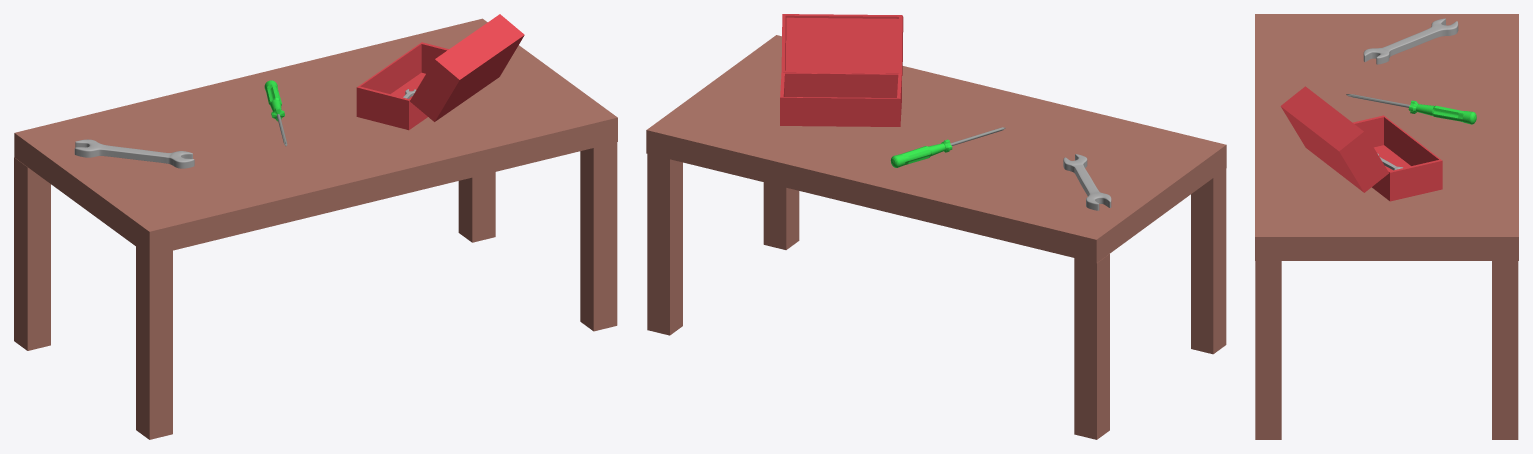
The model's file is table.fbx.
3 views of the same model, side by side, from view 1: azimuth 30°, elevation 25°; view 2: azimuth 150°, elevation 25°; view 3: azimuth 270°, elevation 25° (orthographic). The views are drawn at different scales.
Parts seen in each view (by area): view 1: Cube.004, Cube, Plane; view 2: Cube.004, Cube, Plane, Cylinder; view 3: Cube.004, Cube, Plane, Cylinder.
Part boxes in pixels (x1,y1,x2,y2): Cube.004: (14, 18, 617, 439); Cube: (356, 14, 524, 130); Plane: (74, 139, 194, 168); Cube.004: (646, 35, 1226, 439); Cube: (780, 14, 903, 126); Plane: (1063, 154, 1111, 210); Cylinder: (890, 139, 952, 167); Cube.004: (1255, 14, 1518, 439); Cube: (1280, 86, 1442, 201); Plane: (1363, 18, 1458, 64); Cylinder: (1408, 100, 1476, 124).
Bounding box in the file's own units: 200 × 117 × 100.
